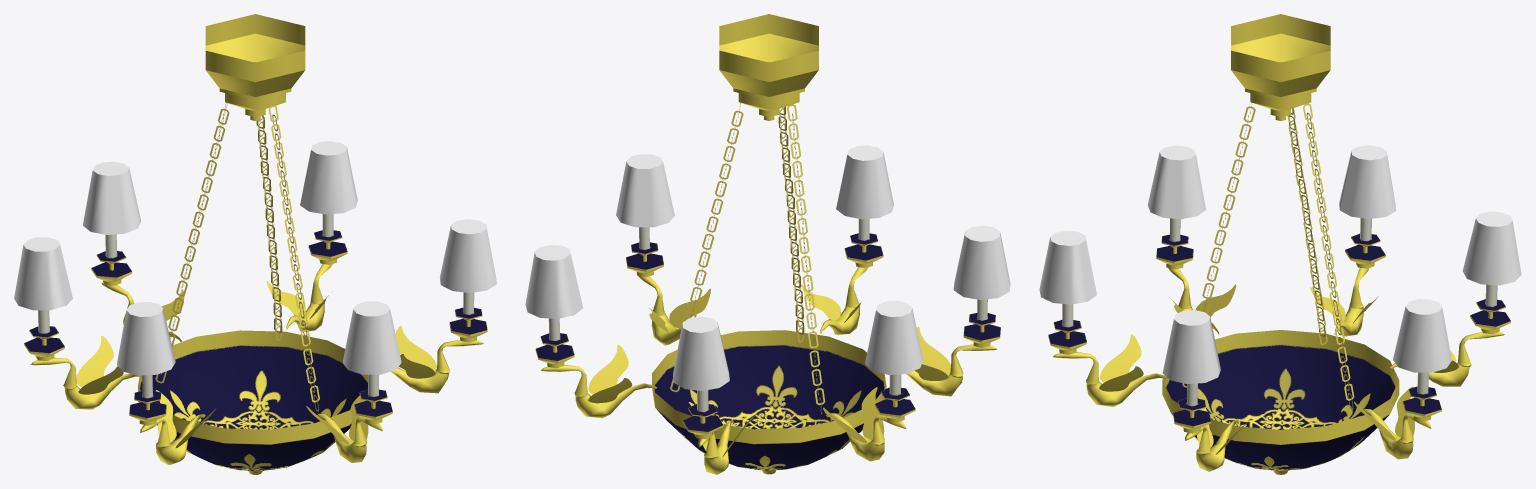
File: CR_FancyLamp.fbx
3 renders of one model, left to right at view 1: azimuth 30°, elevation 25°; view 2: azimuth 150°, elevation 25°; view 3: azimuth 270°, elevation 25°, orthographic.
Parts seen in each view (by area): view 1: fancy_amp; view 2: fancy_amp; view 3: fancy_amp.
Part boxes in pixels (x1=…): fancy_amp: x1=14, y1=14, x2=496, y2=474; fancy_amp: x1=525, y1=14, x2=1010, y2=474; fancy_amp: x1=1039, y1=14, x2=1521, y2=474.
Bounding box in the file's own units: 87.37 × 93.93 × 94.09.
